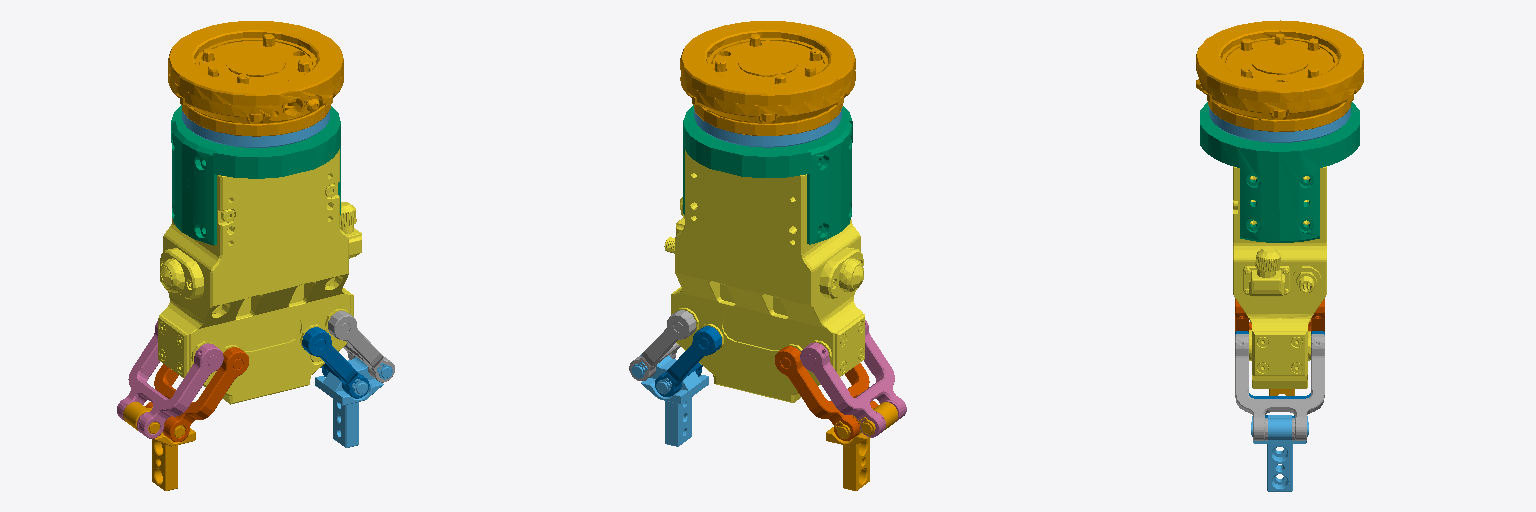
URDF robot description (gripper):
<?xml version="1.0" ?>
<robot name="gripper">

  <!-- <material name="black">
    <color rgba="0.0 0.0 0.0 1.0"/>
  </material>
  <material name="white">
    <color rgba="1.0 1.0 1.0 1.0"/>
  </material>
  <material name="orange">
    <color rgba="1.0 0.4 0.0 1.0"/>
  </material>

  <material name="dr_gray">
    <color rgba="0.490 0.490 0.486 1.0"/>
  </material>
  <material name="dr_white">
    <color rgba="0.941 0.941 0.941 1.0"/>
  </material> -->

  <link name="FT-sensor">
  <inertial>
    <mass value="1.16"/>
    <origin xyz="-3.2e-05 8e-06 -0.0539"/>
      <inertia ixx="0.0048523" ixy="2.7941e-06" ixz="4.9172e-06" iyy="0.0047546" iyz="3.1535e-06" izz="0.0071373"/>
  </inertial>
  <visual>
    <origin rpy="0 0 0" xyz="0 0 0"/>
    <geometry>
      <mesh filename="package://gripper_stl/ft-300-s.stl" scale="0.001 0.001 0.001"/>
    </geometry>
  </visual>
  </link>
  
  <joint name="FT-sensor_cover_joint" type="fixed">
    <parent link="FT-sensor"/>
    <child link="FT-sensor_cover"/>
    <origin rpy="0 0 0" xyz="0 0 -0.0217"/>
  </joint>

  <link name="FT-sensor_cover">
    <inertial>
      <mass value="1.16"/>
      <origin xyz="-3.2e-05 8e-06 -0.0539"/>
      <inertia ixx="0.0048523" ixy="2.7941e-06" ixz="4.9172e-06" iyy="0.0047546" iyz="3.1535e-06" izz="0.0071373"/>
    </inertial>
    <visual>
      <origin rpy="0 0 0" xyz="0 0 0"/>
      <geometry>
        <mesh filename="package://gripper_stl/FT_cover.stl" scale="0.001 0.001 0.001"/>
      </geometry>
    </visual>
  </link>

  <joint name="adaptor_joint" type="fixed">
    <parent link="FT-sensor_cover"/>
    <child link="adaptor_joint"/>
    <origin rpy="0 0 0" xyz="0 0 -0.010299"/>
  </joint>

  <link name="adaptor_joint">
    <inertial>
      <mass value="1.16"/>
      <origin xyz="-3.2e-05 8e-06 -0.0539"/>
      <inertia ixx="0.0048523" ixy="2.7941e-06" ixz="4.9172e-06" iyy="0.0047546" iyz="3.1535e-06" izz="0.0071373"/>
    </inertial>
    <visual>
      <origin rpy="0 0 0" xyz="0 0 0"/>
      <geometry>
        <mesh filename="package://gripper_stl/adaptor_frame_modified.stl" scale="0.001 0.001 0.001"/>
      </geometry>
    </visual>
  </link>
  

  <joint name="gripper_body_joint" type="fixed">
    <parent link="adaptor_joint"/>
    <child link="gripper_body"/>
    <origin rpy="0 0 0" xyz="0 0 -0.016"/>
  </joint>

  <link name="gripper_body">
    <inertial>
      <mass value="1.16"/>
      <origin xyz="-3.2e-05 8e-06 -0.0539"/>
      <inertia ixx="0.0048523" ixy="2.7941e-06" ixz="4.9172e-06" iyy="0.0047546" iyz="3.1535e-06" izz="0.0071373"/>
    </inertial>
    <visual>
      <origin rpy="0 0 0" xyz="0 0 0"/>
      <geometry>
        <mesh filename="package://gripper_stl/body.stl" scale="0.001 0.001 0.001"/>
      </geometry>
    </visual>
  </link>

  <joint name="Linka_joint" type="fixed">
    <parent link="gripper_body"/>
    <child link="Linka"/>
    <origin rpy="0 0 0" xyz="0.024 0 -0.1085"/>
  </joint>

  <link name="Linka">
    <inertial>
      <mass value="1.16"/>
      <origin xyz="-3.2e-05 8e-06 -0.0539"/>
      <inertia ixx="0.0048523" ixy="2.7941e-06" ixz="4.9172e-06" iyy="0.0047546" iyz="3.1535e-06" izz="0.0071373"/>
    </inertial>
    <visual>
      <origin rpy="0 0 0" xyz="0 0 0"/>
      <geometry>
        <mesh filename="package://gripper_stl/linka.stl" scale="0.001 0.001 0.001"/>
      </geometry>
    </visual>
  </link>

  <joint name="Linka2_joint" type="fixed">
    <parent link="gripper_body"/>
    <child link="Linka2"/>
    <origin rpy="0 0 0" xyz="-0.024 0 -0.1085"/>
  </joint>

  <link name="Linka2">
    <inertial>
      <mass value="1.16"/>
      <origin xyz="-3.2e-05 8e-06 -0.0539"/>
      <inertia ixx="0.0048523" ixy="2.7941e-06" ixz="4.9172e-06" iyy="0.0047546" iyz="3.1535e-06" izz="0.0071373"/>
    </inertial>
    <visual>
      <origin rpy="0 0 0" xyz="0 0 0"/>
      <geometry>
        <mesh filename="package://gripper_stl/linka2.stl" scale="0.001 0.001 0.001"/>
      </geometry>
    </visual>
  </link>

  <joint name="Linkb_joint" type="fixed">
    <parent link="gripper_body"/>
    <child link="Linkb"/>
    <origin rpy="0 0 0" xyz="-0.039 0 -0.103"/>
  </joint>

  <link name="Linkb">
    <inertial>
      <mass value="1.16"/>
      <origin xyz="-3.2e-05 8e-06 -0.0539"/>
      <inertia ixx="0.0048523" ixy="2.7941e-06" ixz="4.9172e-06" iyy="0.0047546" iyz="3.1535e-06" izz="0.0071373"/>
    </inertial>
    <visual>
      <origin rpy="0 0 0" xyz="0 0 0"/>
      <geometry>
        <mesh filename="package://gripper_stl/linkb.stl" scale="0.001 0.001 0.001"/>
      </geometry>
    </visual>
  </link>

  <joint name="Linkb2_joint" type="fixed">
    <parent link="gripper_body"/>
    <child link="Linkb2"/>
    <origin rpy="0 0 0" xyz="0.039 0 -0.103"/>
  </joint>

  <link name="Linkb2">
    <inertial>
      <mass value="1.16"/>
      <origin xyz="-3.2e-05 8e-06 -0.0539"/>
      <inertia ixx="0.0048523" ixy="2.7941e-06" ixz="4.9172e-06" iyy="0.0047546" iyz="3.1535e-06" izz="0.0071373"/>
    </inertial>
    <visual>
      <origin rpy="0 0 0" xyz="0 0 0"/>
      <geometry>
        <mesh filename="package://gripper_stl/linkb2.stl" scale="0.001 0.001 0.001"/>
      </geometry>
    </visual>
  </link>

  <joint name="jaw_joint" type="fixed">
    <parent link="Linkb"/>
    <child link="jaw"/>
    <origin rpy="0 0 0" xyz="-0.0285 0 -0.03483"/>
  </joint>

  <link name="jaw">
    <inertial>
      <mass value="1.16"/>
      <origin xyz="-3.2e-05 8e-06 -0.0539"/>
      <inertia ixx="0.0048523" ixy="2.7941e-06" ixz="4.9172e-06" iyy="0.0047546" iyz="3.1535e-06" izz="0.0071373"/>
    </inertial>
    <visual>
      <origin rpy="0 0 0" xyz="0 0 0"/>
      <geometry>
        <mesh filename="package://gripper_stl/jaw.stl" scale="0.001 0.001 0.001"/>
      </geometry>
    </visual>
  </link>

  <joint name="jaw2_joint" type="fixed">
    <parent link="Linkb2"/>
    <child link="jaw2"/>
    <origin rpy="0 0 0" xyz="0.0285 0 -0.03483"/>
  </joint>

  <link name="jaw2">
    <inertial>
      <mass value="1.16"/>
      <origin xyz="-3.2e-05 8e-06 -0.0539"/>
      <inertia ixx="0.0048523" ixy="2.7941e-06" ixz="4.9172e-06" iyy="0.0047546" iyz="3.1535e-06" izz="0.0071373"/>
    </inertial>
    <visual>
      <origin rpy="0 0 0" xyz="0 0 0"/>
      <geometry>
        <mesh filename="package://gripper_stl/jaw2.stl" scale="0.001 0.001 0.001"/>
      </geometry>
    </visual>
  </link>
</robot>

--- Facts derived from the render (not from the file) ---
3 views of the same robot in one strip: view 1: azimuth 30°, elevation 25°; view 2: azimuth 150°, elevation 25°; view 3: azimuth 270°, elevation 25° (orthographic).
Model gripper with 10 links and 9 joints (9 fixed), rooted at FT-sensor, posed every joint at zero.
Visible links, largest first — view 1: gripper_body, FT-sensor, adaptor_joint, Linkb, Linka2, jaw2, jaw, Linkb2, Linka, FT-sensor_cover; view 2: gripper_body, FT-sensor, adaptor_joint, Linkb, Linka2, jaw2, jaw, Linkb2, Linka, FT-sensor_cover; view 3: FT-sensor, gripper_body, adaptor_joint, Linkb2, jaw2, FT-sensor_cover, Linka2.
Boxes of the visible links, bbox=[...] form: gripper_body: bbox=[158, 149, 361, 404]; FT-sensor: bbox=[168, 21, 343, 136]; adaptor_joint: bbox=[171, 105, 340, 245]; Linkb: bbox=[117, 321, 223, 438]; Linka2: bbox=[145, 347, 248, 441]; jaw2: bbox=[315, 356, 392, 447]; jaw: bbox=[123, 402, 195, 490]; Linkb2: bbox=[328, 311, 394, 382]; Linka: bbox=[302, 327, 369, 398]; FT-sensor_cover: bbox=[182, 110, 329, 147]; gripper_body: bbox=[664, 150, 864, 402]; FT-sensor: bbox=[680, 21, 855, 135]; adaptor_joint: bbox=[683, 105, 852, 244]; Linkb: bbox=[800, 320, 906, 437]; Linka2: bbox=[775, 346, 878, 440]; jaw2: bbox=[631, 354, 708, 446]; jaw: bbox=[826, 402, 897, 490]; Linkb2: bbox=[629, 310, 696, 380]; Linka: bbox=[655, 326, 721, 396]; FT-sensor_cover: bbox=[694, 109, 841, 147]; FT-sensor: bbox=[1196, 20, 1363, 131]; gripper_body: bbox=[1233, 166, 1326, 388]; adaptor_joint: bbox=[1200, 102, 1359, 242]; Linkb2: bbox=[1235, 334, 1324, 440]; jaw2: bbox=[1251, 415, 1308, 491]; FT-sensor_cover: bbox=[1209, 107, 1350, 142]; Linka2: bbox=[1235, 299, 1324, 331].
Bounding box of the posed robot: 0.147 × 0.089 × 0.228 m (x, y, z).
Meshes: 10 distinct files referenced, 10 mesh visuals loaded (9 binary STL, 1 ASCII STL).
